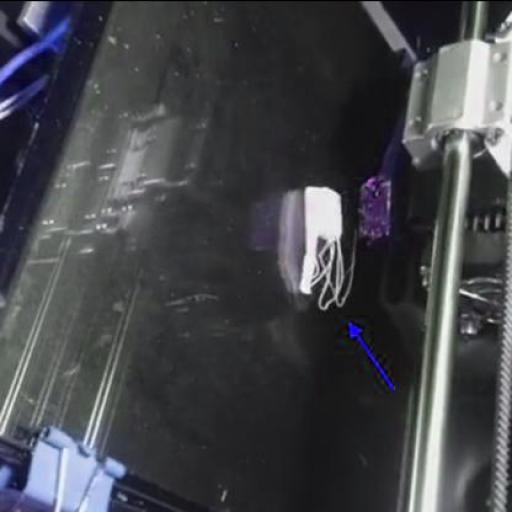spaghetti: (312, 233, 358, 309)
